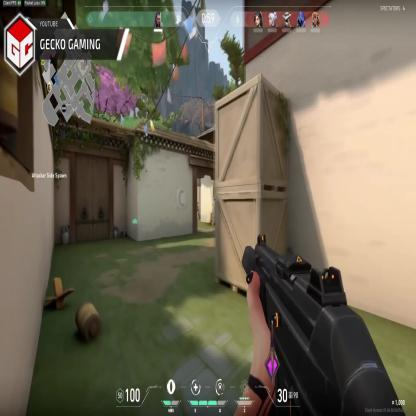enemy: (196, 200, 200, 219)
enemy_head: (197, 200, 199, 204)
